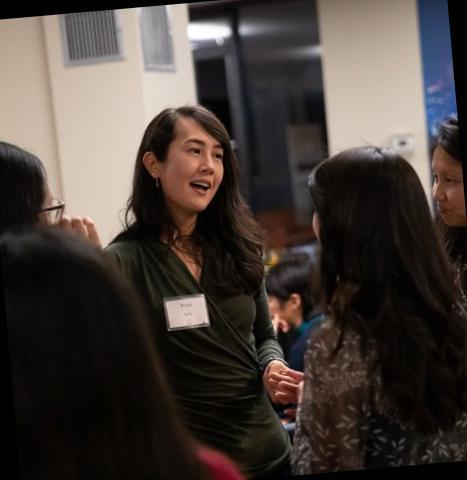Sober: (169, 123, 222, 207)
